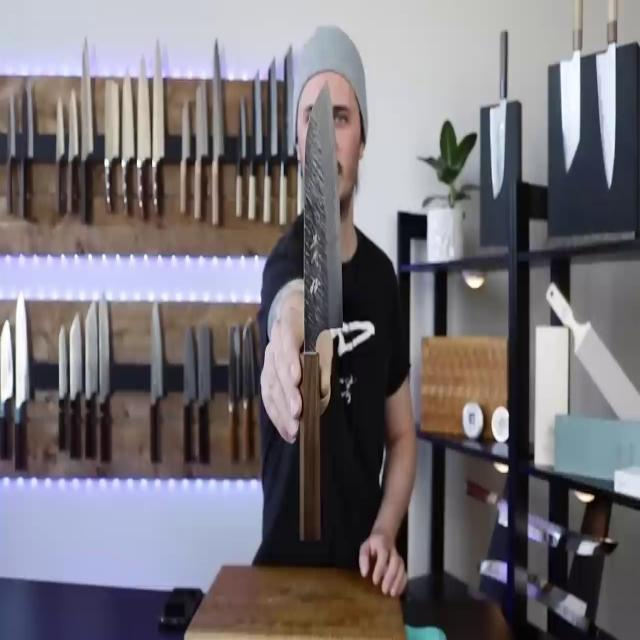Knife: (299, 71, 349, 562)
